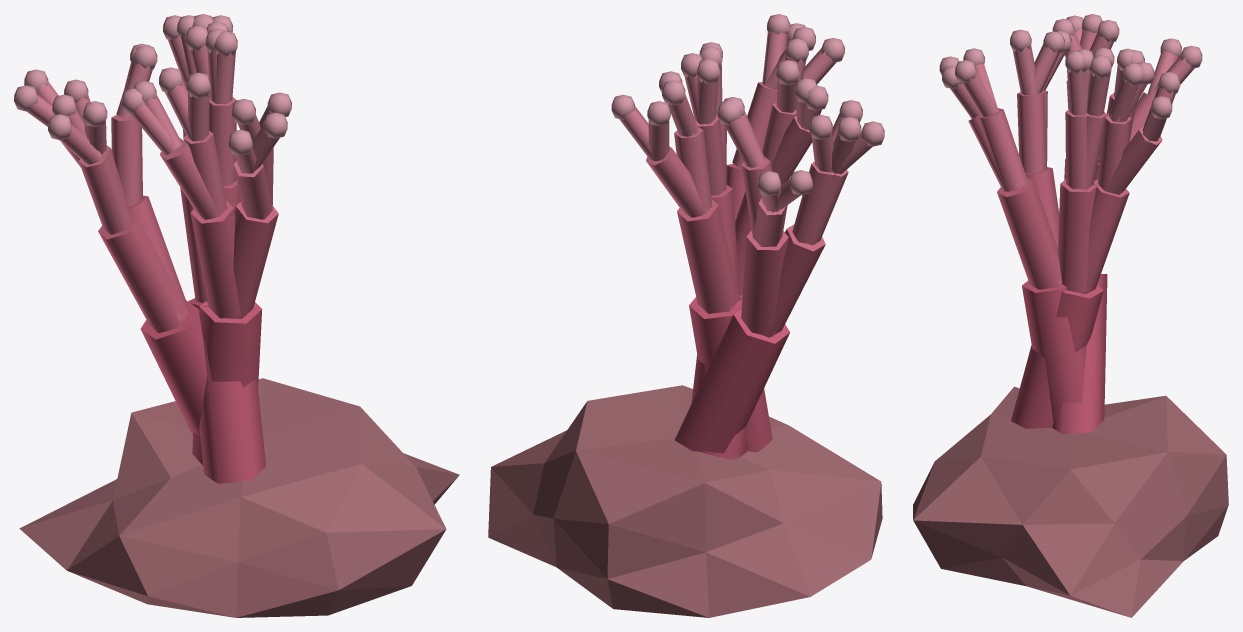
The model's file is coral_rosa.glb.
3 renders of one model, left to right at view 1: azimuth 30°, elevation 25°; view 2: azimuth 150°, elevation 25°; view 3: azimuth 270°, elevation 25°, orthographic. The views are drawn at different scales.
Parts seen in each view (by area): view 1: coral_rosa_Malla; view 2: coral_rosa_Malla; view 3: coral_rosa_Malla.
Boxes of the visible parts, box(x1,y1,x2,y2) form: coral_rosa_Malla: box(14, 14, 459, 617); coral_rosa_Malla: box(488, 14, 884, 617); coral_rosa_Malla: box(913, 14, 1228, 617).
Bounding box in the file's own units: 0.9071 × 1.14 × 0.6784.
